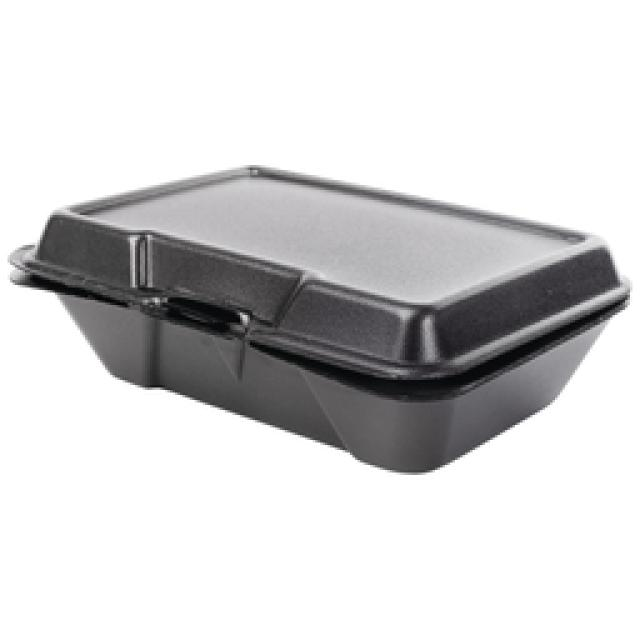styrofoam: (10, 168, 628, 470)
